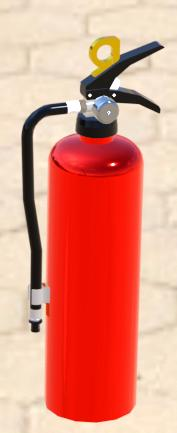fire_extinguisher: (0, 1, 177, 433)
